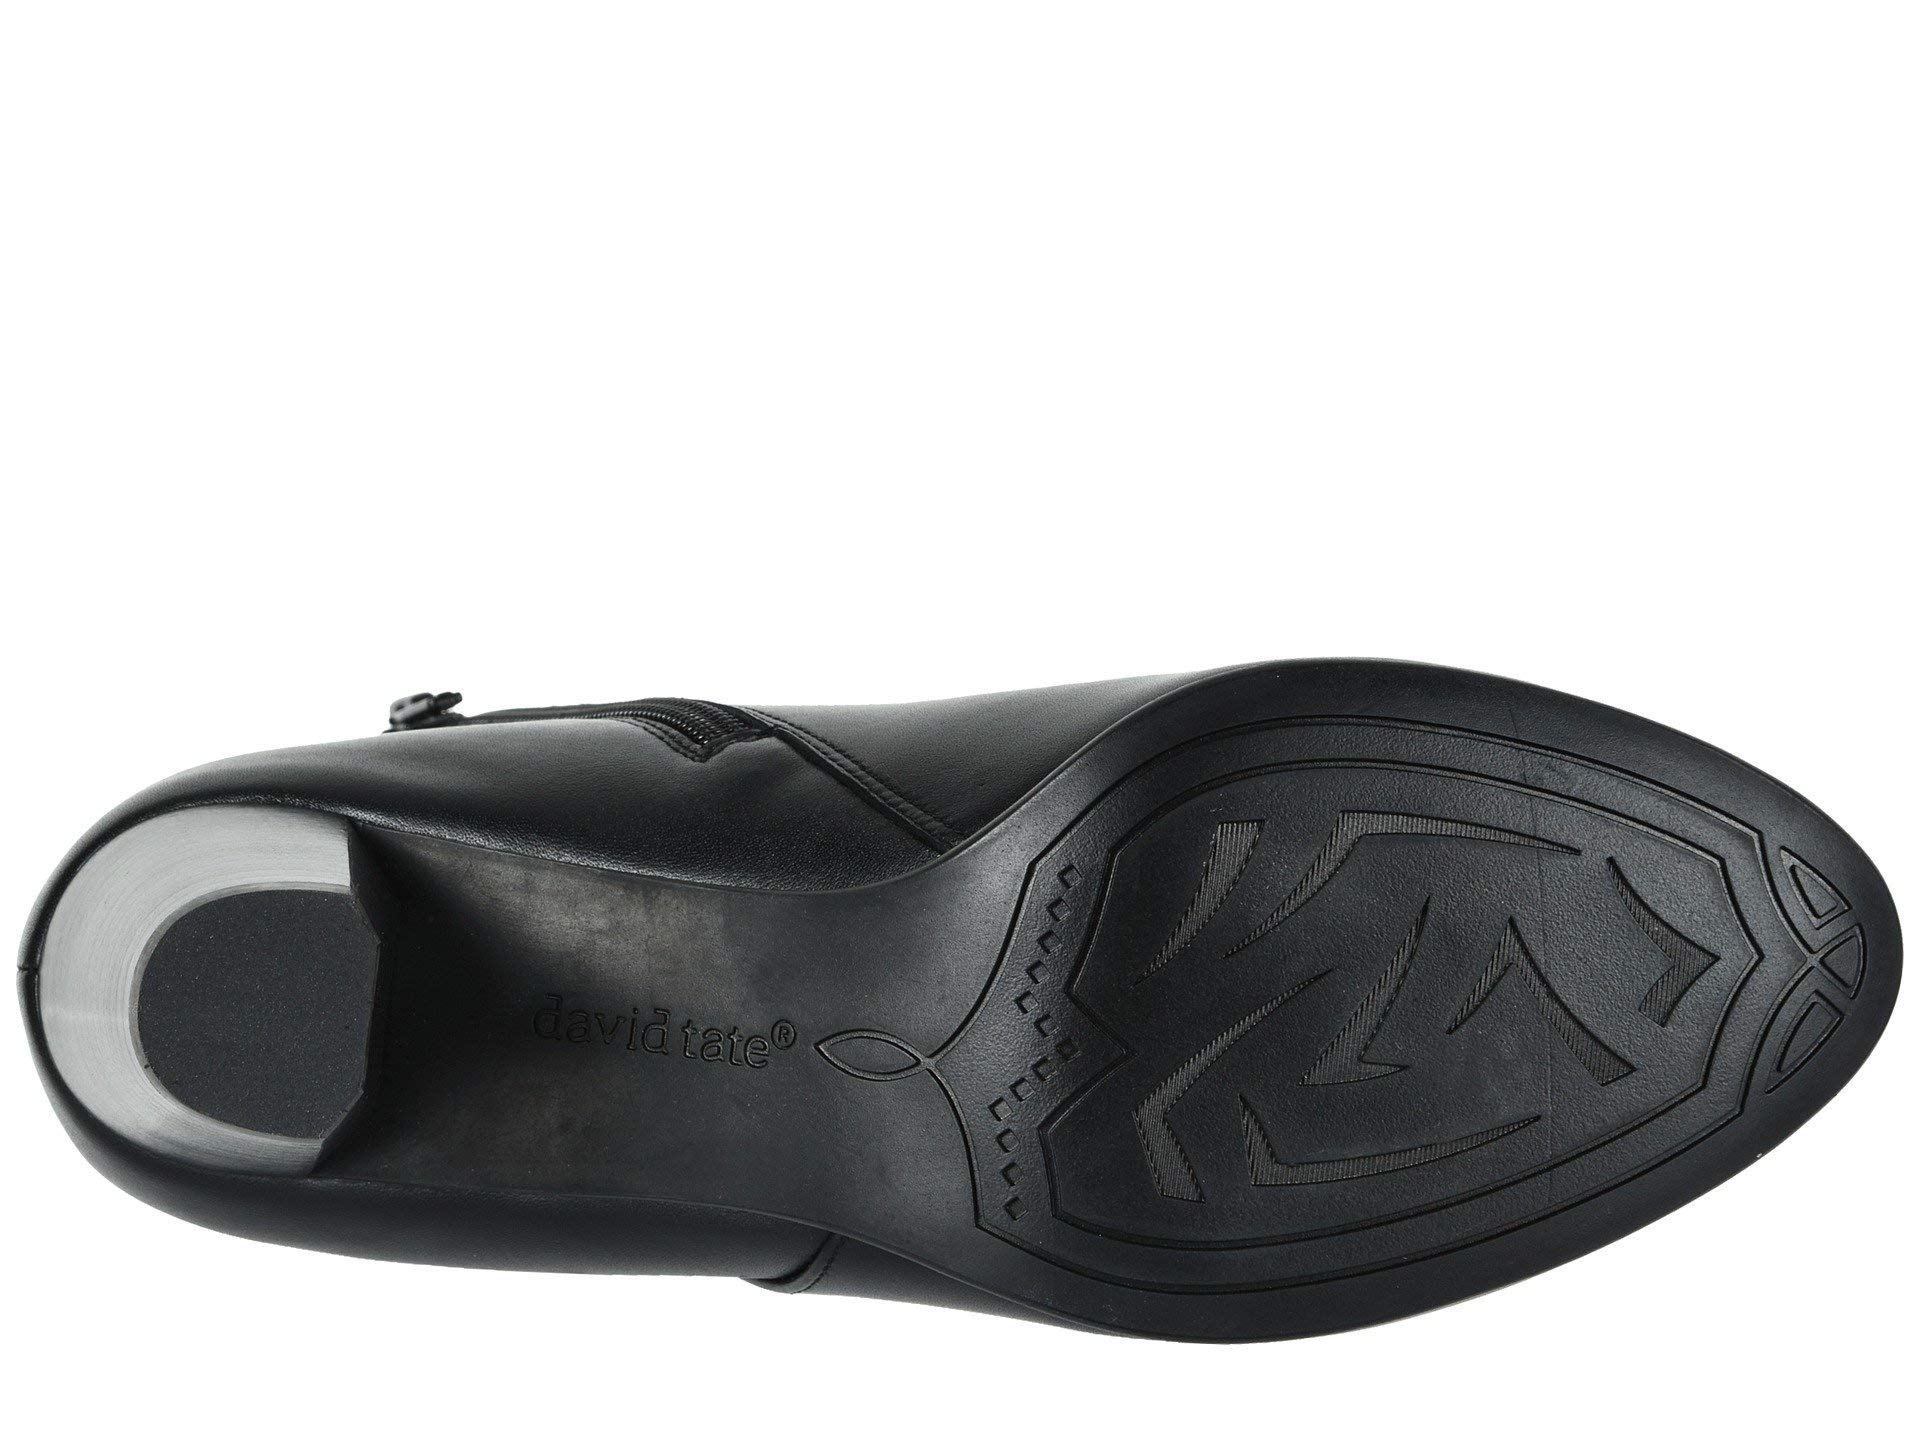chevron: (1150, 791, 1642, 1187), (1671, 797, 1885, 1086), (915, 927, 1126, 1215)
line: (1150, 791, 1642, 1187)
quad: (915, 927, 1126, 1215)
triangle: (1671, 797, 1885, 1086)
